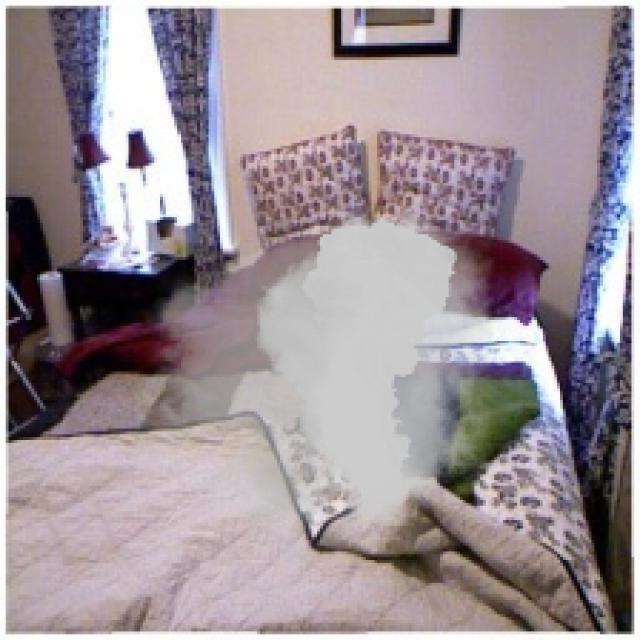Smoke: (108, 197, 526, 549)
